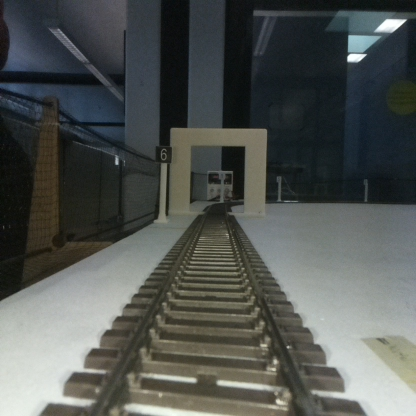black-info-6: (155, 145, 171, 221)
